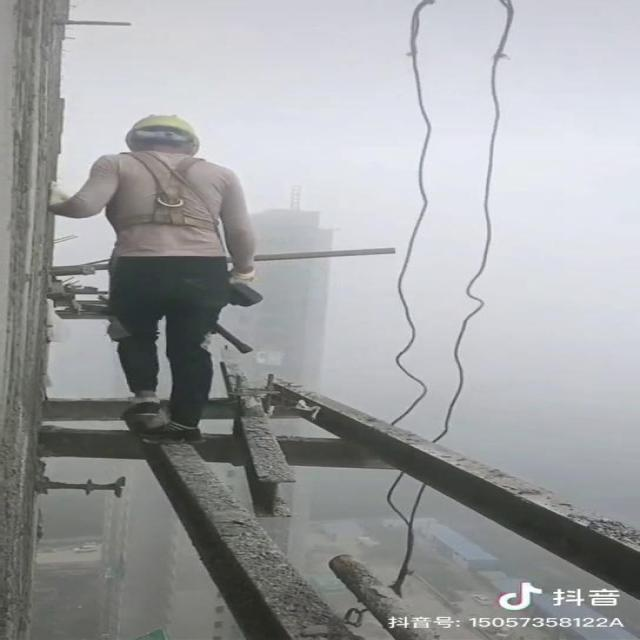Arnes_seguridad: (85, 148, 241, 244)
